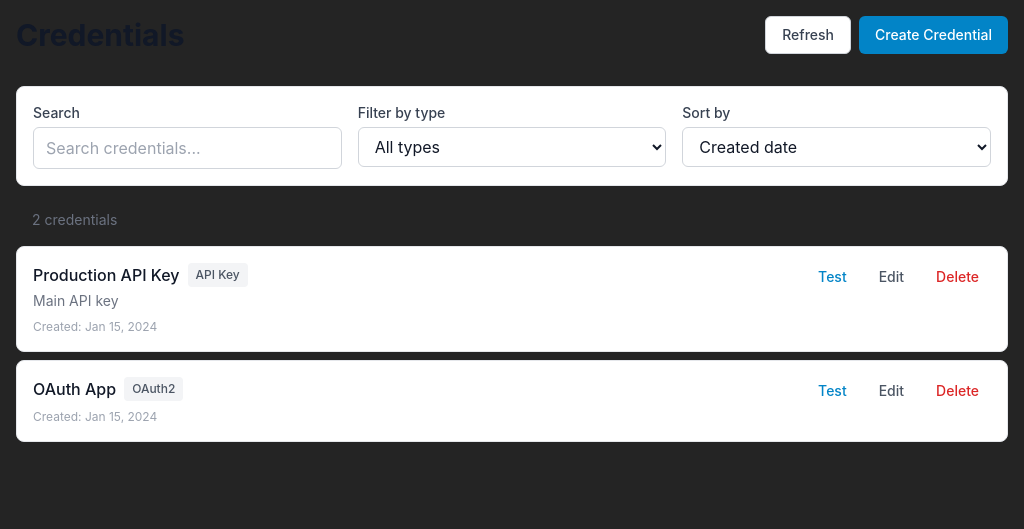
Test: CredentialManager › tests credential when test button is clicked
Click the button "Test" in the row of "Production API Key": (832, 277) [806, 263, 859, 291]
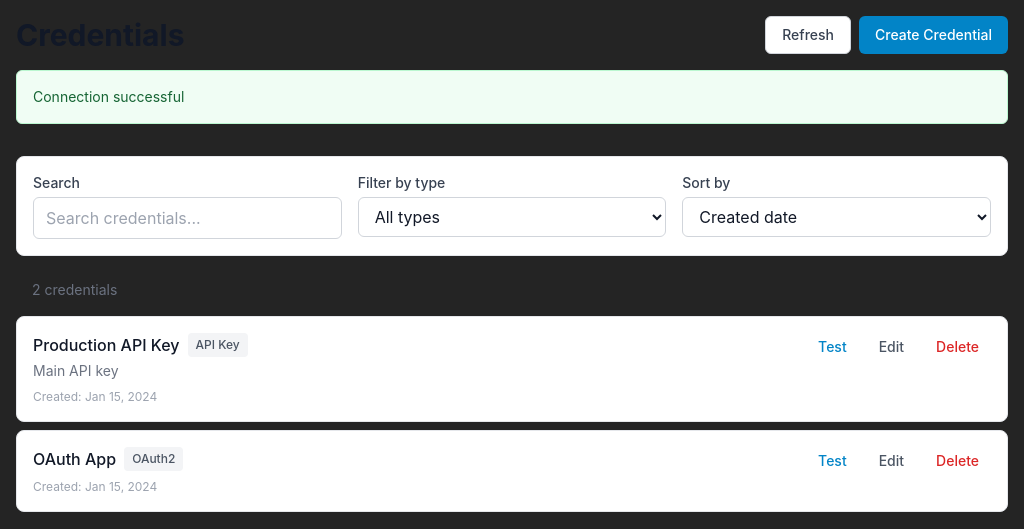
Result: the text "Connection successful" is shown at [33, 88, 184, 105]
